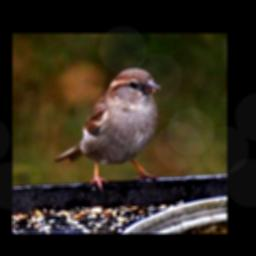Sparrow: (54, 66, 163, 193)
